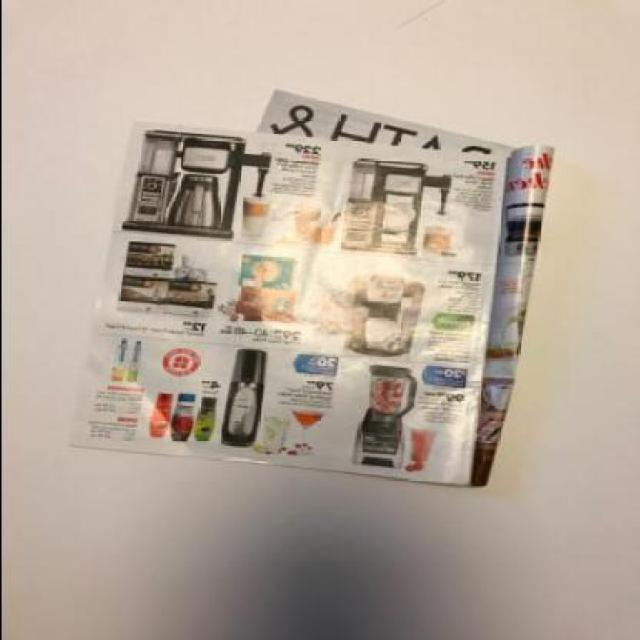paper: (64, 120, 502, 488), (255, 86, 556, 483)
